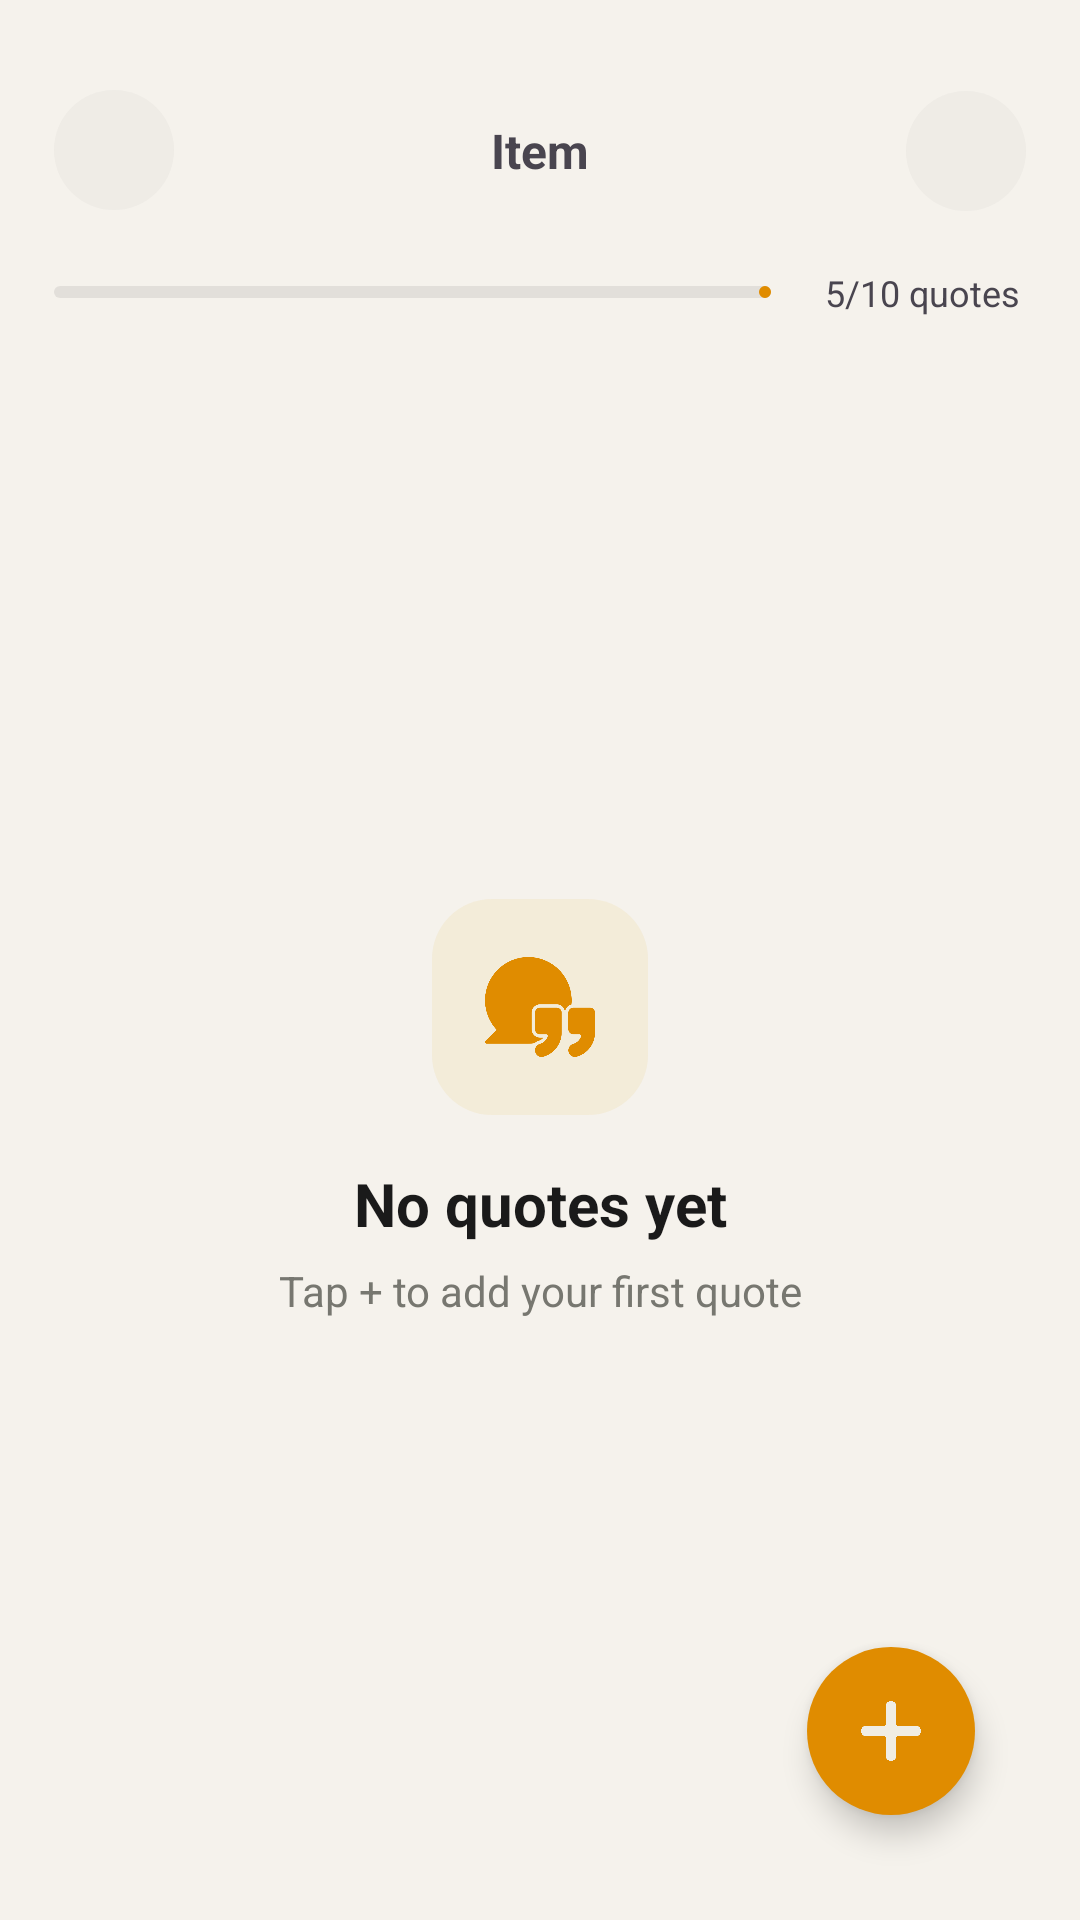

Screen size 1080px×1920px. Icon name, then its box in pixels as {"x1": x1, "y1": y1, "x2": x2, "y2": y2}:
add: {"x1": 807, "y1": 1647, "x2": 975, "y2": 1815}
